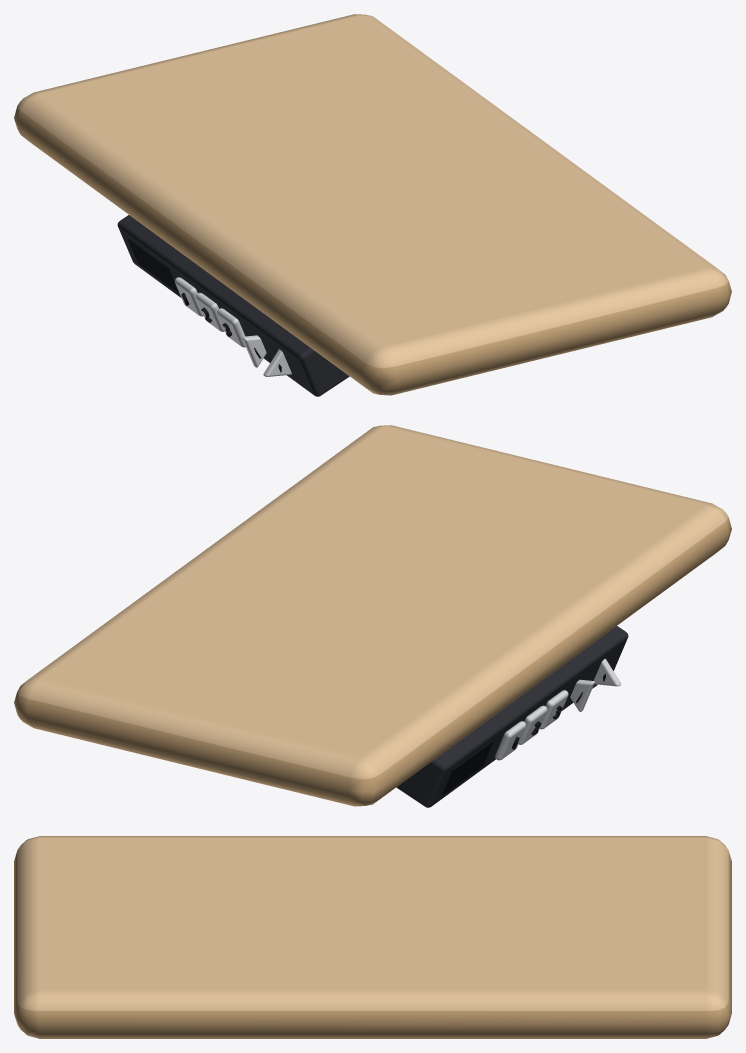
File: keypad.glb
The picture shows the model from 3 angles, top to bottom: view 1: azimuth 30°, elevation 25°; view 2: azimuth 150°, elevation 25°; view 3: azimuth 270°, elevation 25°; orthographic projection. The views are drawn at different scales.
Parts seen in each view (by area): view 1: deskTop, keypadBody, keypadScreen; view 2: deskTop, keypadBody, keypadScreen; view 3: deskTop.
Part boxes in pixels (<box>): deskTop: <box>14,14,731,395</box>; keypadBody: <box>117,215,349,396</box>; keypadScreen: <box>127,238,179,293</box>; deskTop: <box>14,425,731,806</box>; keypadBody: <box>396,626,628,807</box>; keypadScreen: <box>442,740,493,795</box>; deskTop: <box>14,836,731,1038</box>.
Bounding box in the file's own units: 0.2032 × 0.0604 × 0.3556.
Materials: 1 (1 with a texture image).
